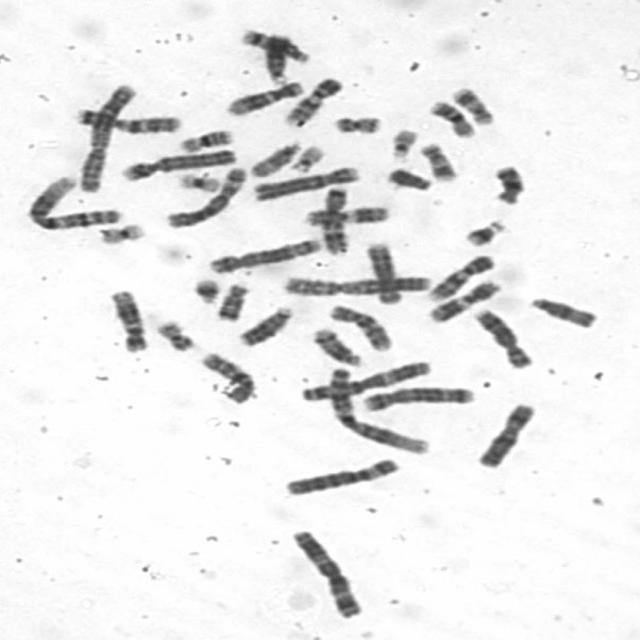A1: (320, 360, 433, 456), (22, 172, 126, 231)
A2: (74, 79, 140, 194), (276, 269, 437, 297)
A3: (286, 524, 367, 620), (294, 355, 436, 403)
B4: (248, 161, 364, 203), (116, 145, 240, 182)
B5: (204, 233, 325, 274), (358, 382, 478, 412)
C10: (323, 299, 397, 352), (196, 347, 260, 404)
C11: (423, 276, 504, 324), (300, 201, 393, 227)
C12: (220, 76, 307, 117), (105, 284, 152, 354)
C6: (160, 161, 251, 229), (280, 453, 403, 498)
C7: (69, 103, 186, 136), (317, 181, 352, 257)
C8: (469, 304, 538, 370), (359, 238, 404, 306)
C9: (422, 250, 498, 302), (280, 73, 346, 127)
D13: (232, 301, 296, 348), (260, 30, 294, 84)
D14: (235, 24, 313, 64), (306, 323, 365, 367)
D15: (524, 292, 601, 330), (245, 136, 304, 178)
E16: (424, 96, 480, 139), (173, 124, 236, 153)
E17: (446, 82, 498, 127), (416, 138, 461, 183)
E18: (488, 160, 528, 206), (210, 279, 252, 322)
F19: (93, 218, 149, 246), (172, 168, 223, 194)
F20: (151, 316, 199, 352), (328, 110, 385, 135)
G21: (458, 215, 509, 248), (187, 274, 224, 305)
G22: (285, 141, 327, 173), (384, 124, 421, 160)
X: (472, 398, 539, 469)
Y: (383, 163, 436, 192)
